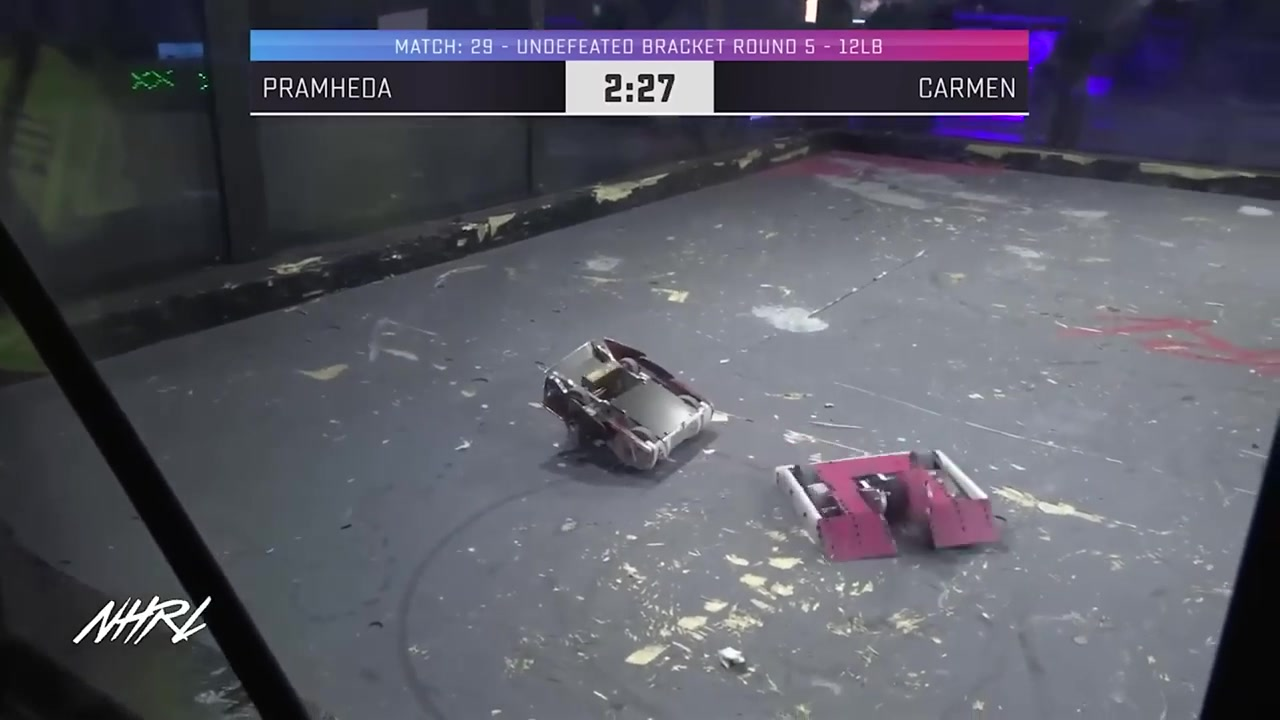combatbot: (773, 442, 1004, 565), (538, 334, 716, 475)
debris: (716, 644, 747, 671)
